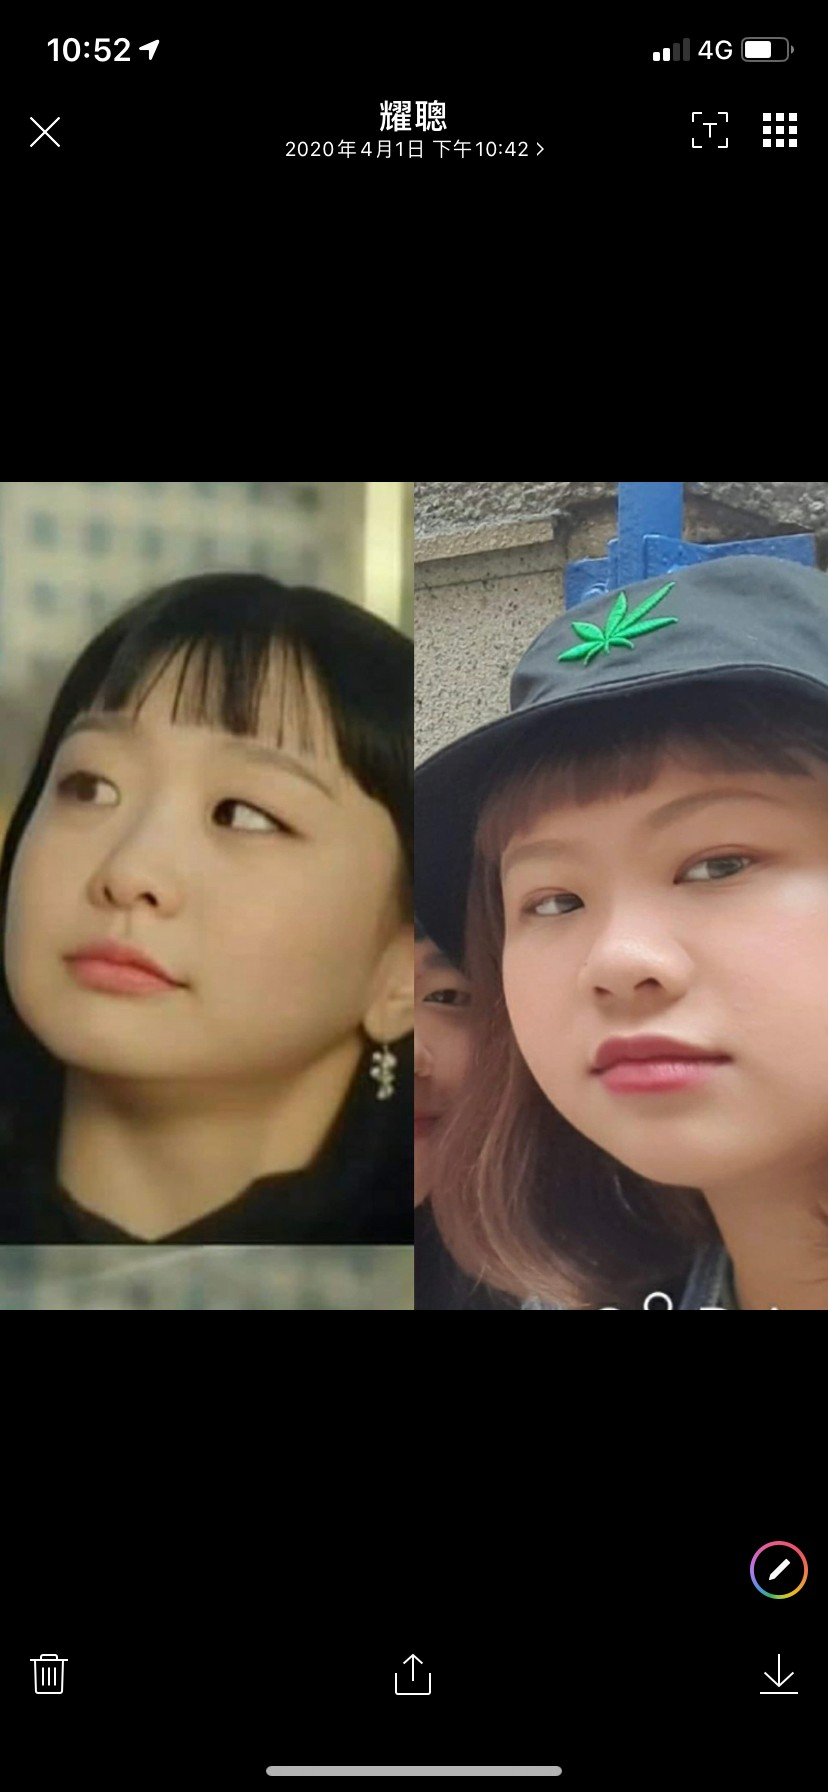people: (421, 599, 828, 1302), (4, 579, 412, 1242)
